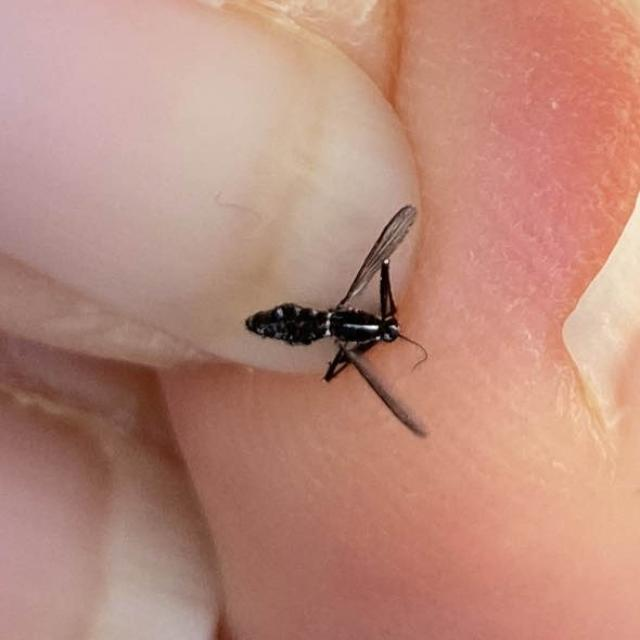albopictus: (233, 197, 443, 437)
